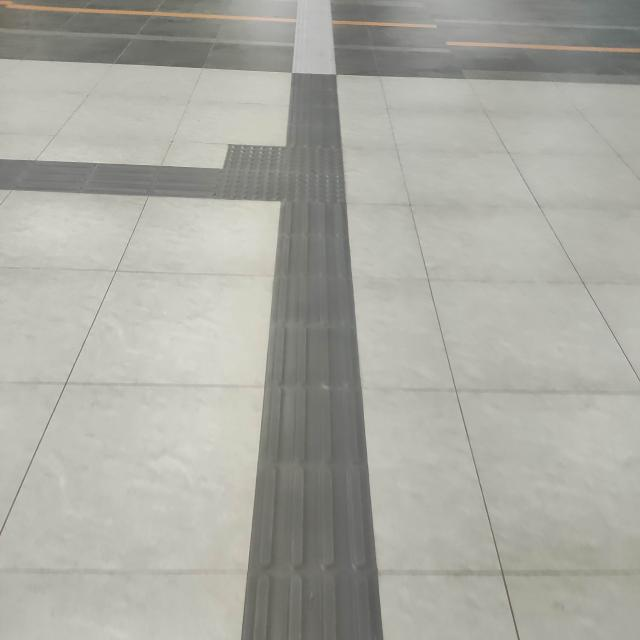lurus: (255, 201, 368, 640)
